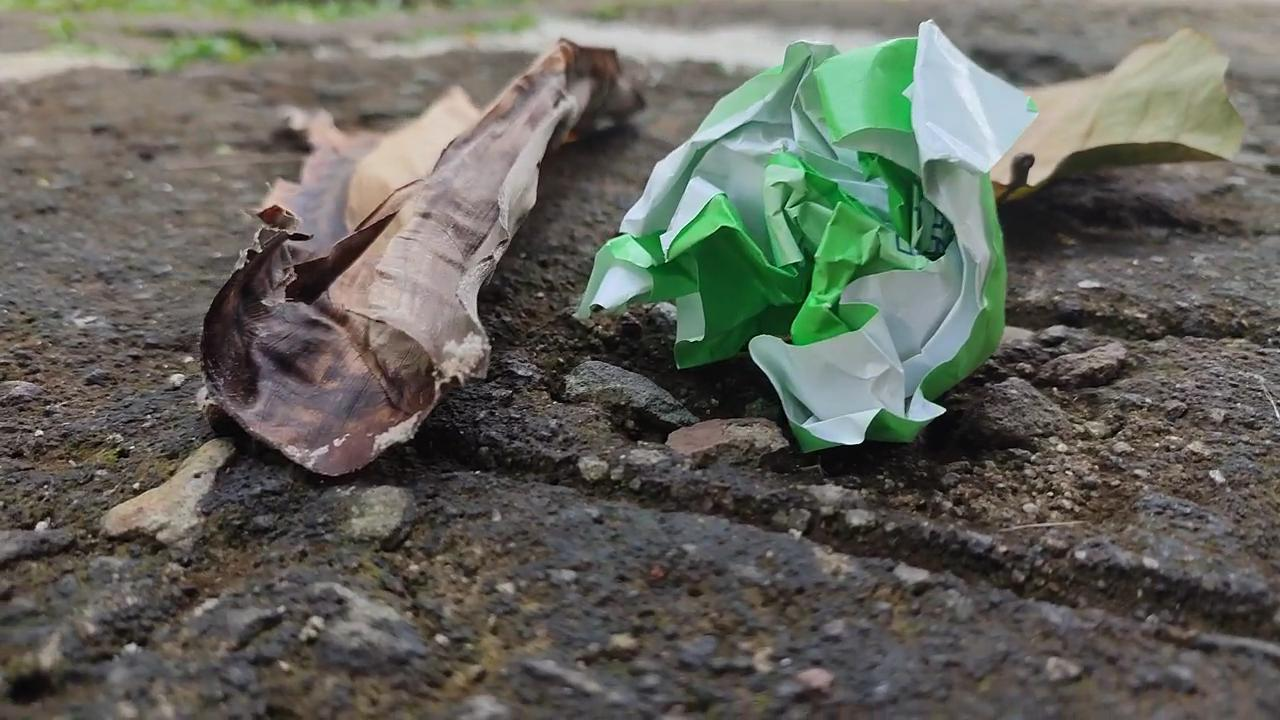Paper: (575, 20, 1037, 479)
